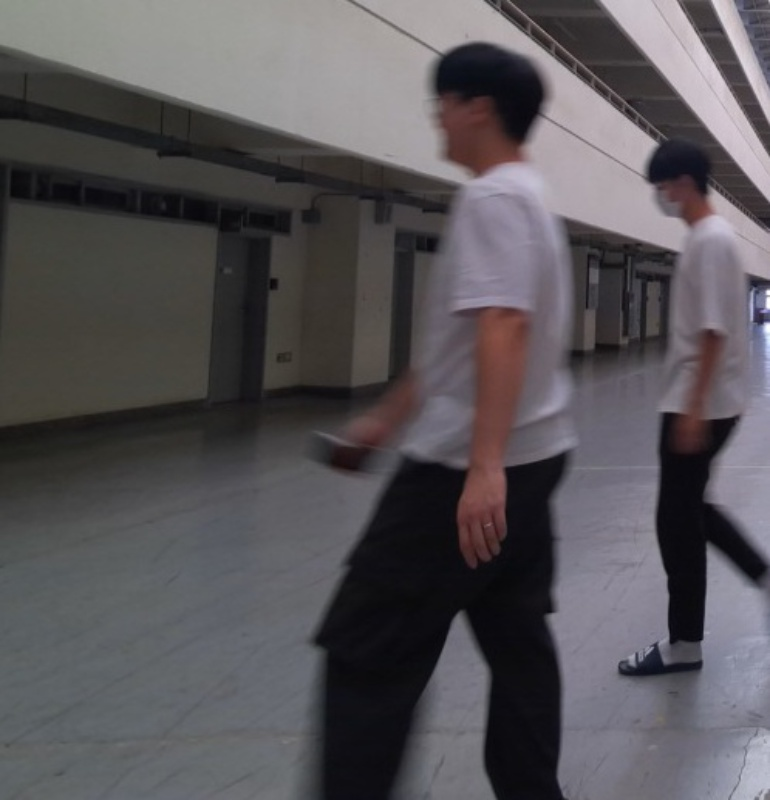person: (288, 38, 580, 800)
